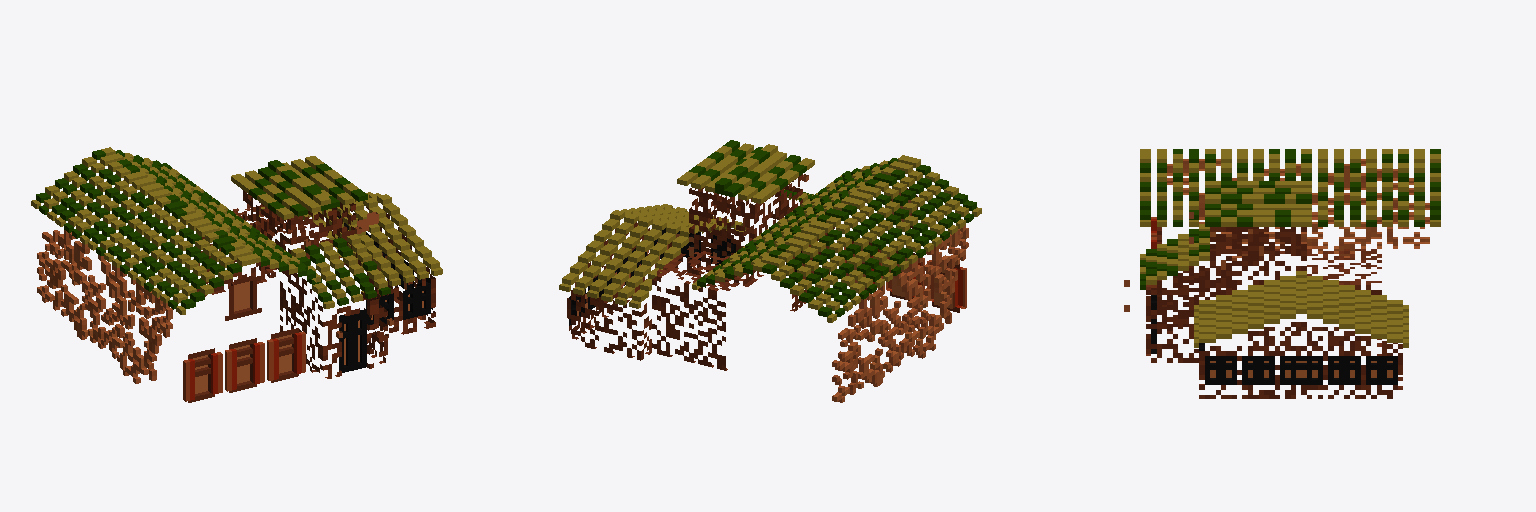
The picture shows the model from 3 angles: view 1: azimuth 30°, elevation 25°; view 2: azimuth 150°, elevation 25°; view 3: azimuth 270°, elevation 25°; orthographic projection.
Visible parts, largest first — view 1: spaghetti2; view 2: spaghetti2; view 3: spaghetti2.
Part boxes in pixels (x1,y1,x2,y2): spaghetti2: (31, 147, 442, 402); spaghetti2: (559, 140, 981, 402); spaghetti2: (1124, 149, 1440, 398).
Bounding box in the file's own units: 62 × 31 × 60.
1 materials, 1 textured.